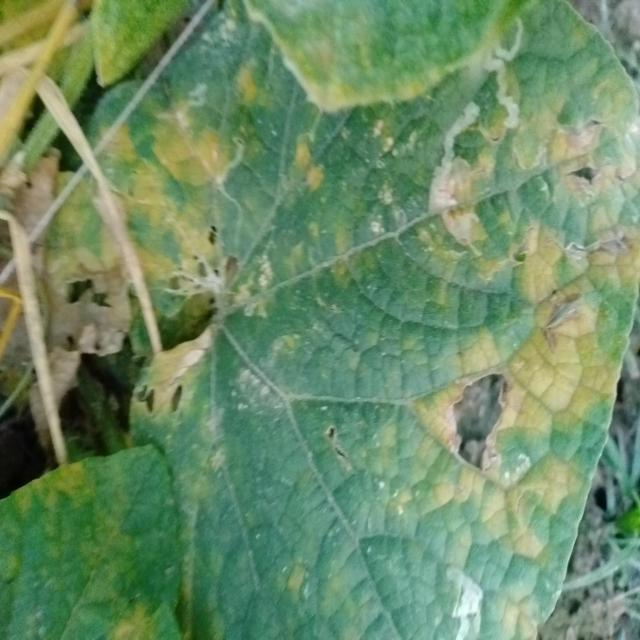cucumber_anthracnose: (120, 17, 628, 631)
